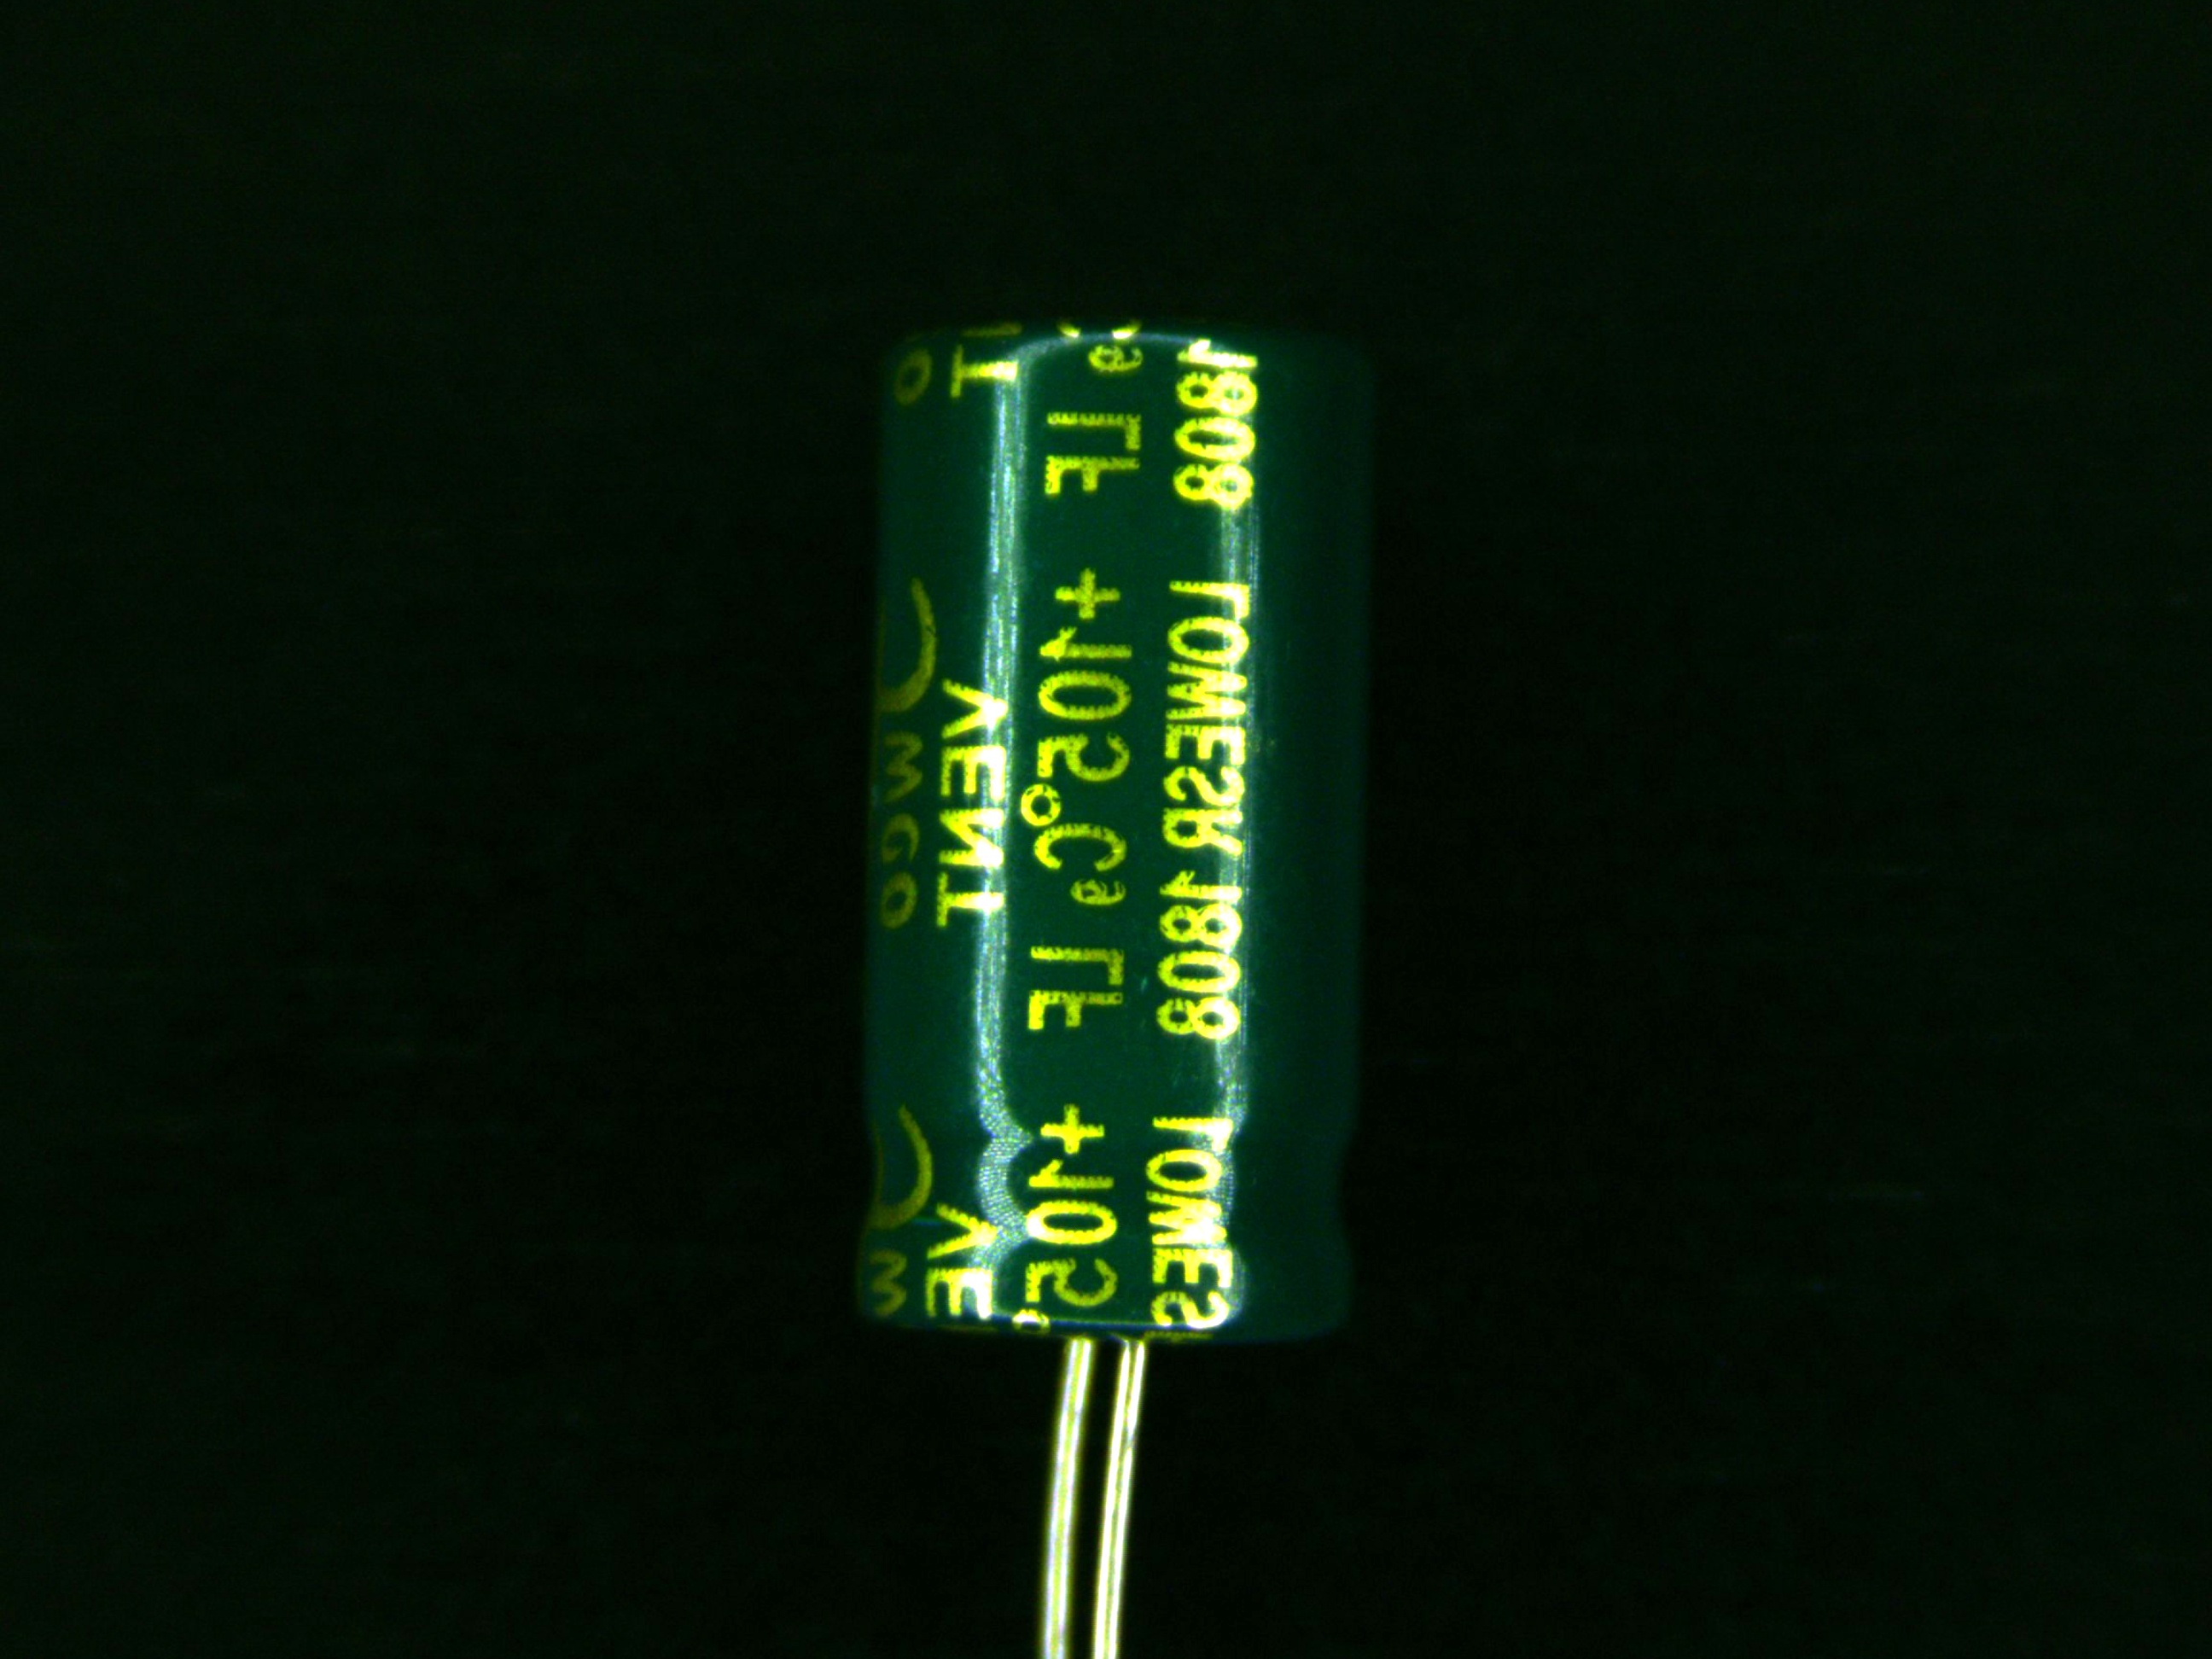c1: (841, 326, 1376, 1443)
